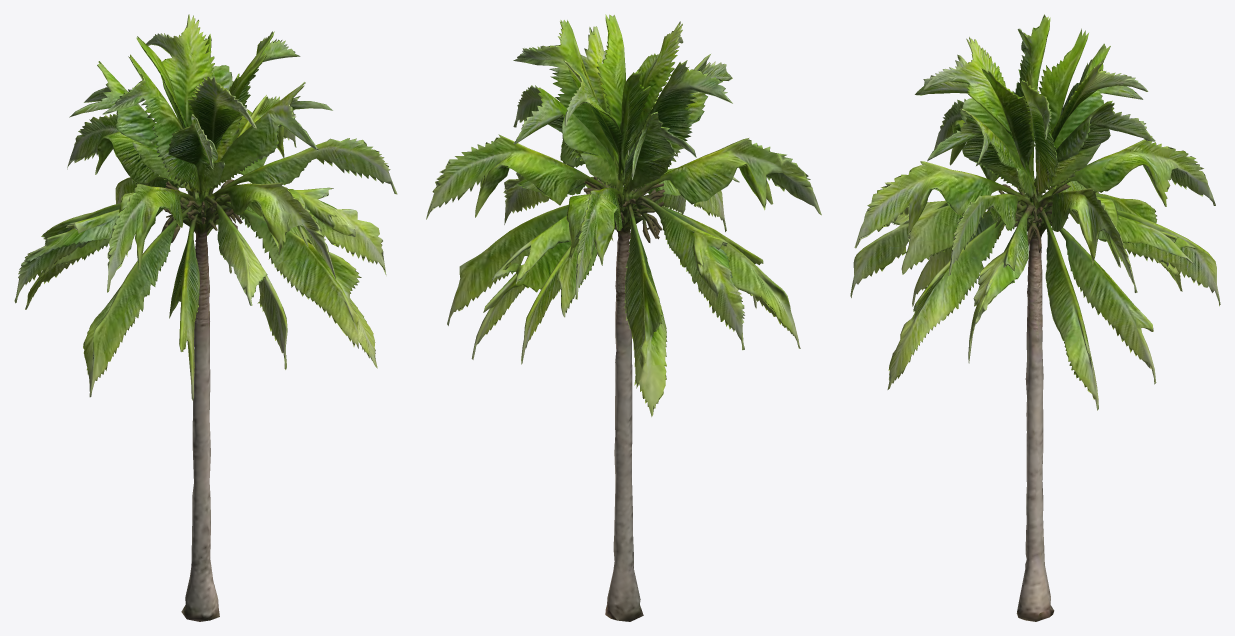
The model's file is palm_a.glb.
3 views of the same model, side by side, from view 1: azimuth 30°, elevation 25°; view 2: azimuth 150°, elevation 25°; view 3: azimuth 270°, elevation 25° (orthographic).
Parts seen in each view (by area): view 1: palm_a; view 2: palm_a; view 3: palm_a.
Boxes of the visible parts, x1,y1,x2,y2 form: palm_a: (14, 14, 397, 621); palm_a: (426, 14, 821, 621); palm_a: (850, 14, 1220, 621).
Size of the model in its own units: 0.5481 by 0.9816 by 0.5788.
Materials: 1 (1 with a texture image).
